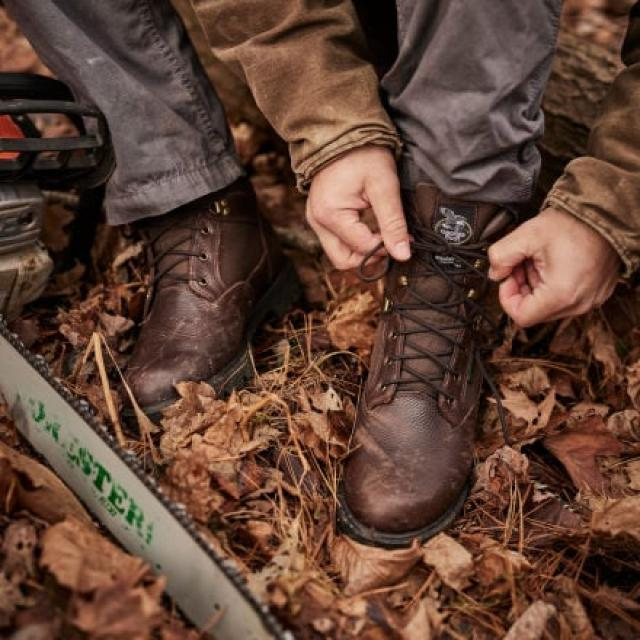Boots: (334, 179, 512, 548), (109, 170, 308, 428)
